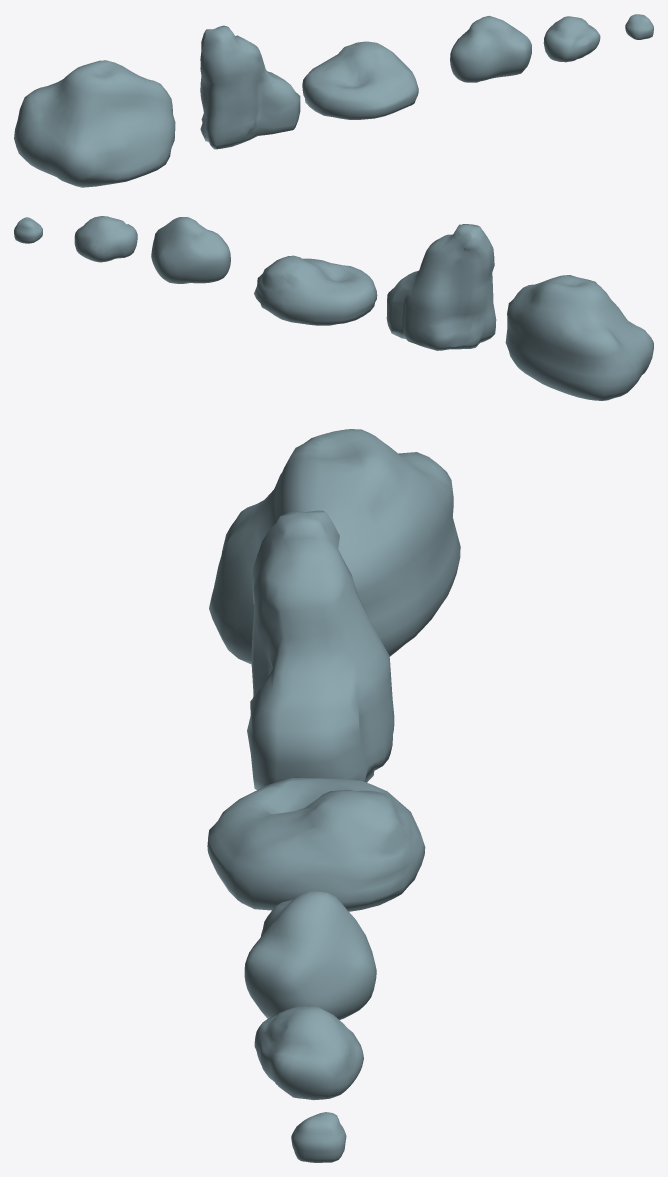
Rendered from rocksFixed.fbx.
3 renders of one model, top to bottom at view 1: azimuth 30°, elevation 25°; view 2: azimuth 150°, elevation 25°; view 3: azimuth 270°, elevation 25°, orthographic. The views are drawn at different scales.
Parts seen in each view (by area): view 1: rock1, rock2, rock3, rock4, rock5, rock6; view 2: rock1, rock2, rock3, rock4, rock5, rock6; view 3: rock2, rock1, rock3, rock4, rock5, rock6.
Boxes of the visible parts, box(x1,y1,x2,y2) form: rock1: box(14, 60, 175, 187); rock2: box(200, 25, 300, 149); rock3: box(302, 41, 418, 119); rock4: box(450, 15, 531, 82); rock5: box(543, 16, 600, 62); rock6: box(625, 14, 653, 39); rock1: box(505, 275, 653, 400); rock2: box(386, 224, 496, 350); rock3: box(254, 255, 377, 325); rock4: box(151, 217, 230, 283); rock5: box(74, 216, 137, 262); rock6: box(14, 217, 42, 243); rock2: box(247, 510, 394, 790); rock1: box(209, 429, 460, 664); rock3: box(207, 777, 425, 911); rock4: box(244, 891, 376, 1019); rock5: box(254, 1006, 363, 1100); rock6: box(291, 1112, 346, 1162).
Bounding box in the file's own units: 733 × 135 × 131.
